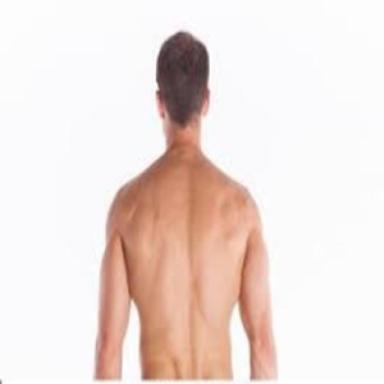normal skin: (96, 143, 274, 379)
